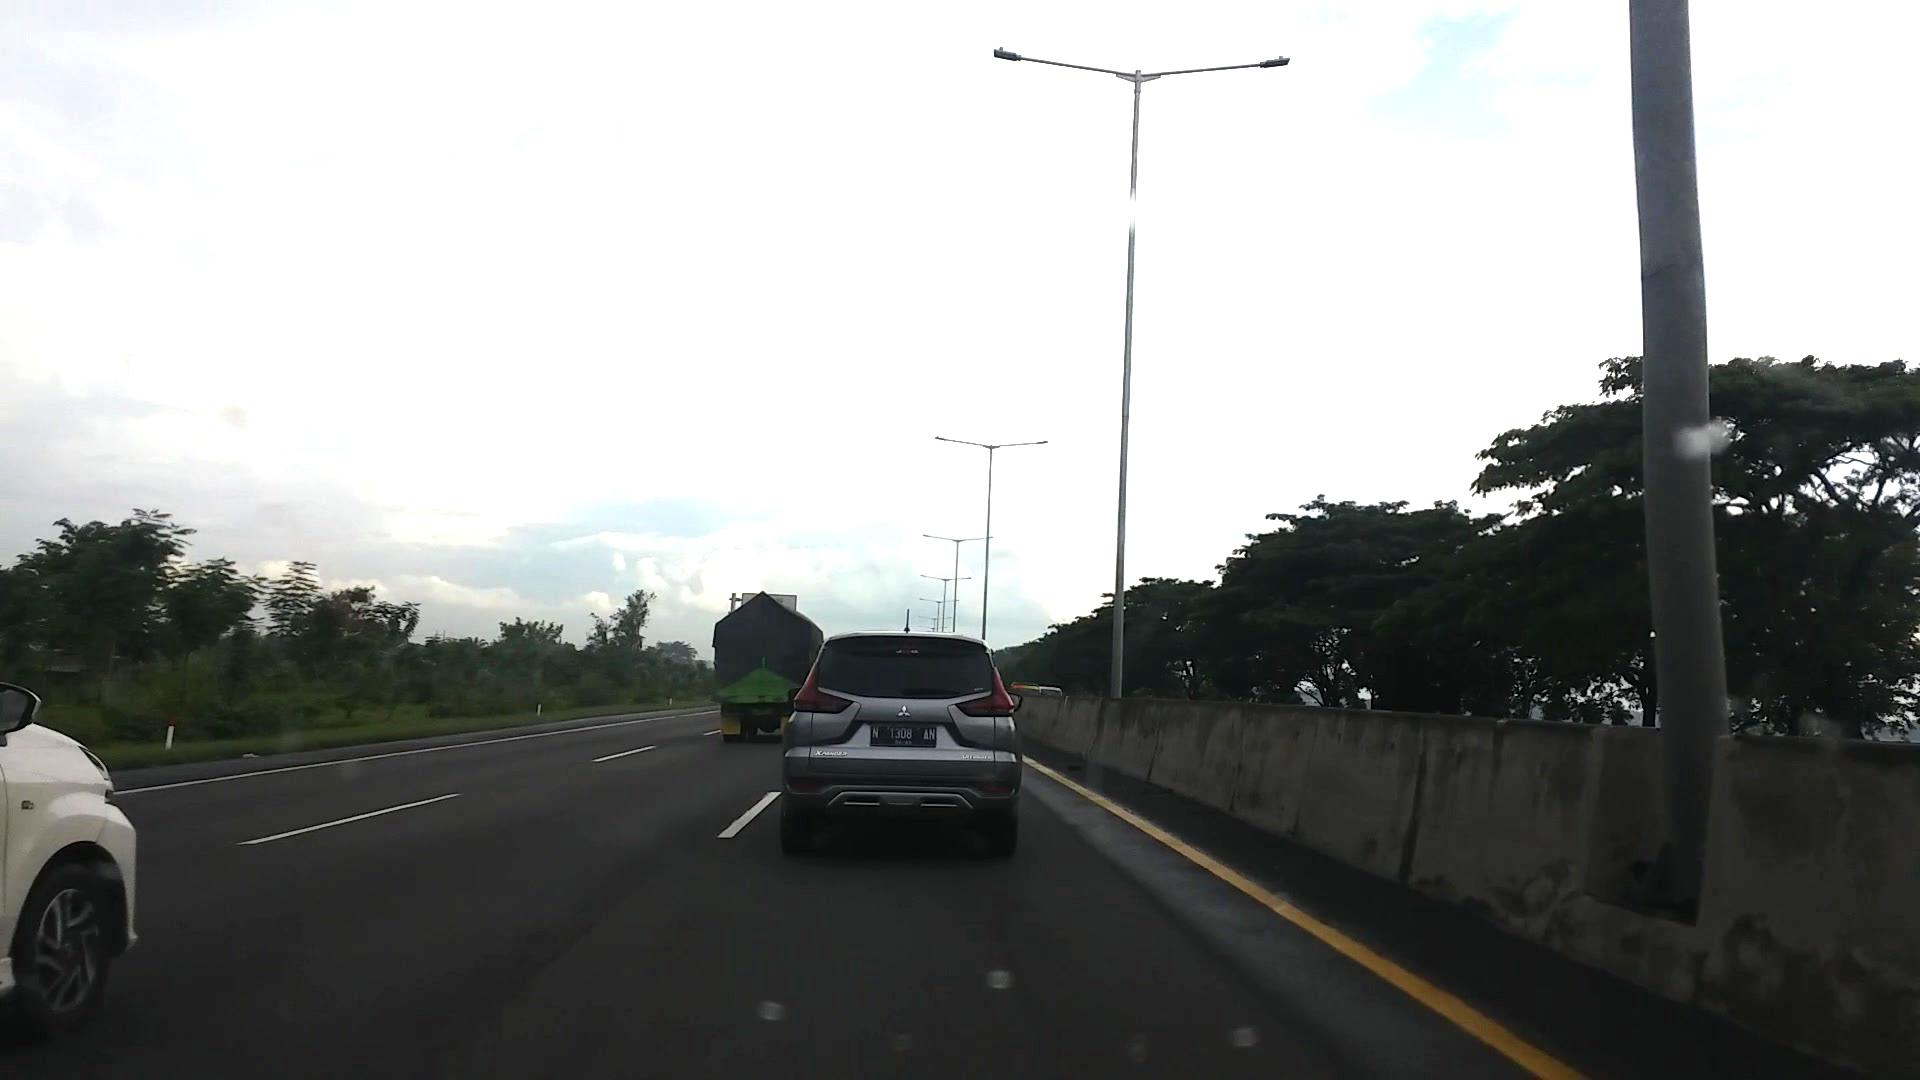plate_positive: (870, 724, 938, 746)
